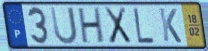3: (27, 5, 50, 46)
H: (77, 6, 105, 45)
K: (158, 7, 183, 45)
L: (132, 7, 156, 45)
U: (49, 5, 79, 46)
X: (103, 6, 133, 46)
